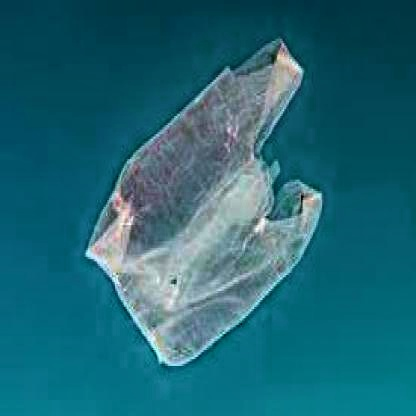pbag: (84, 36, 324, 368)
